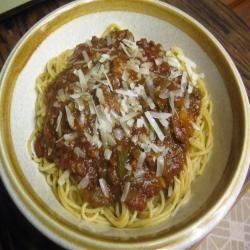bolonese_pasta: (23, 29, 220, 232)
